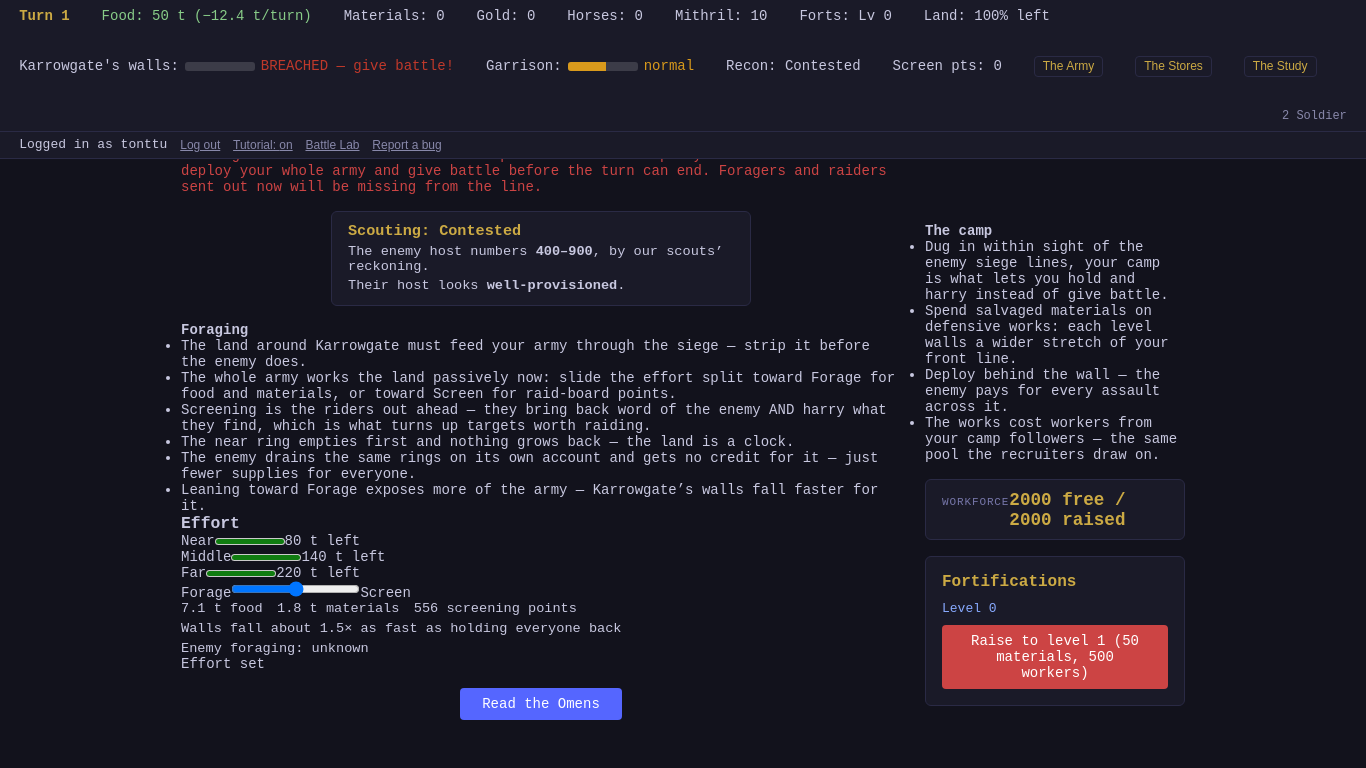
squad placement in the campaign placement flow › an unplaced squad counts toward "still in camp"
This screenshot has width=1366, height=768.
(page scrolled)
What coordinates should you click on to do the following:
click the button with test id "to-omens"
I would click on:
 (541, 704)
Its box is [460,688,622,720].
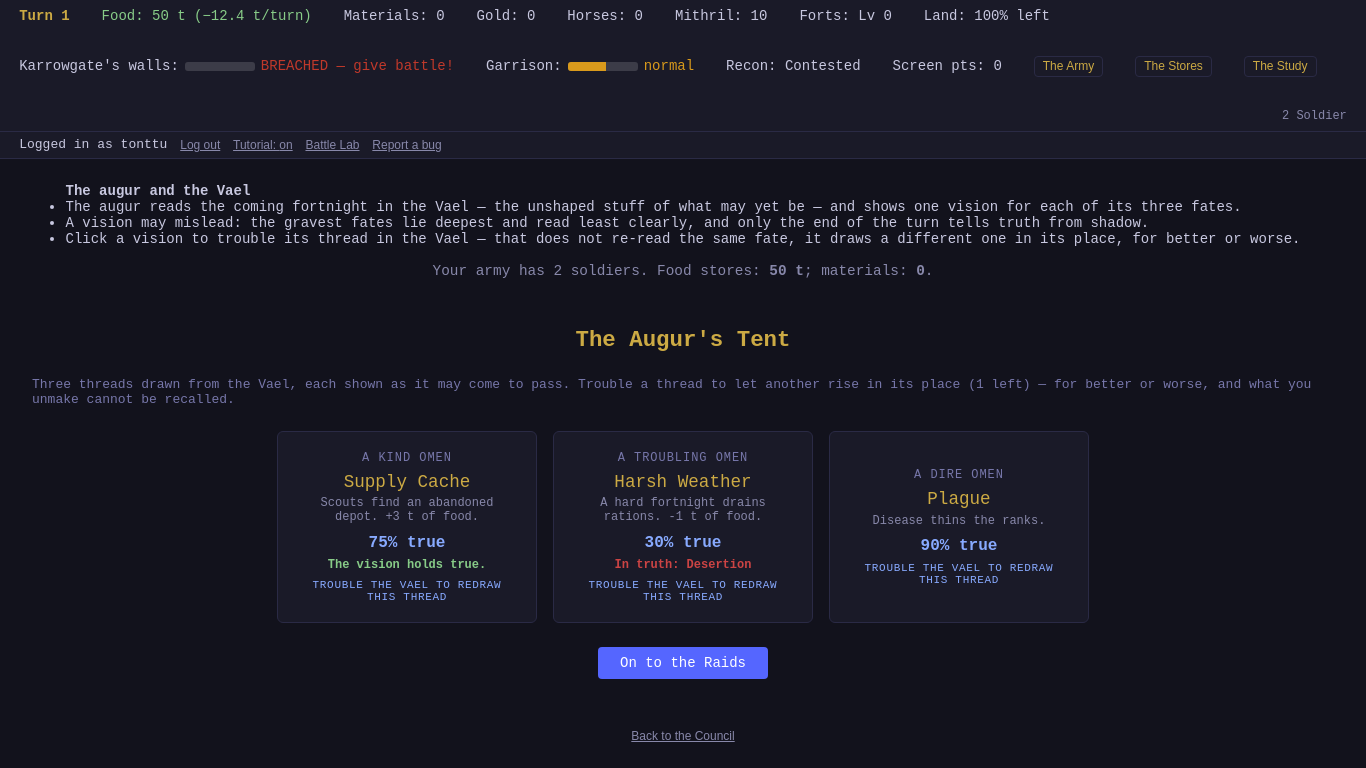
What coordinates should you click on to do the following:
click the button with test id "augury-continue"
I would click on:
 (683, 663)
Its box is [598,647,768,679].
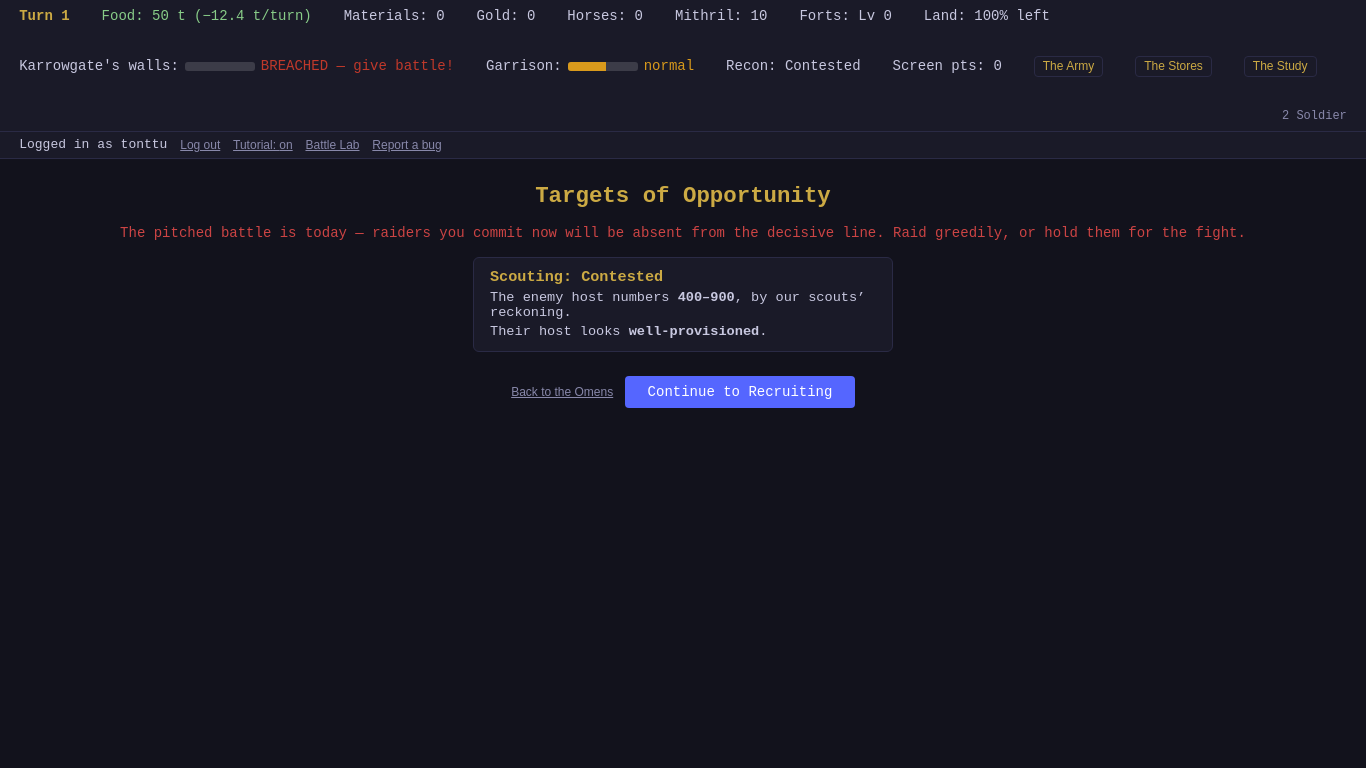
Expected: the heading "Targets of Opportunity" is shown, [535,183,831,209]
What coordinates should you click on to do the following:
click the button with test id "to-recruit"
I would click on:
 (740, 392)
Its box is [625,376,855,408].
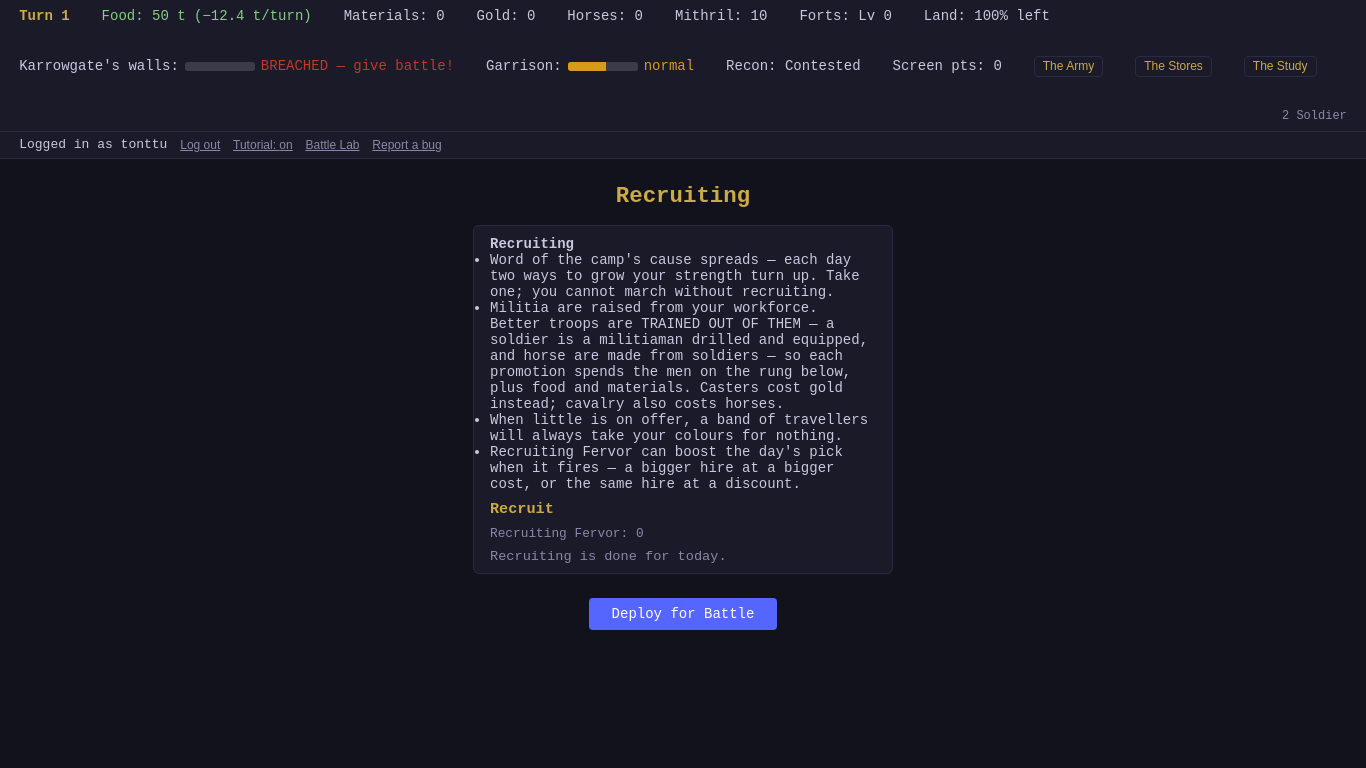
Expected: the button with test id "to-deploy" is shown
What coordinates should you click on to do the following:
click the button with test id "to-deploy"
I would click on:
 (683, 614)
Its box is [589,598,777,630].
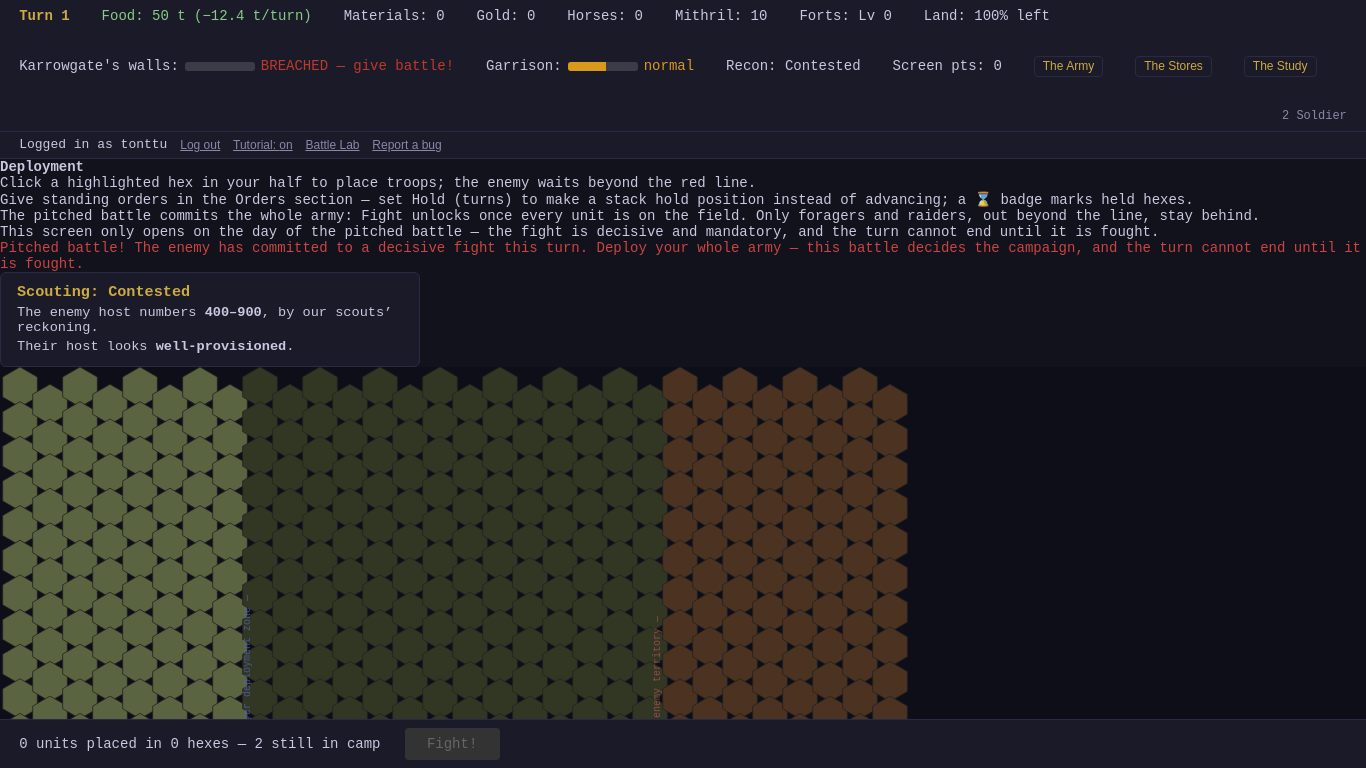
Expected: the text with test id "pitched-battle-deploy" is shown, [0,240,1365,272]
Expected: the text with test id "placement-in-camp" shows "2 still in camp", [229,736,381,752]
Expected: the button "Fight!" is disabled, [404,728,500,760]
